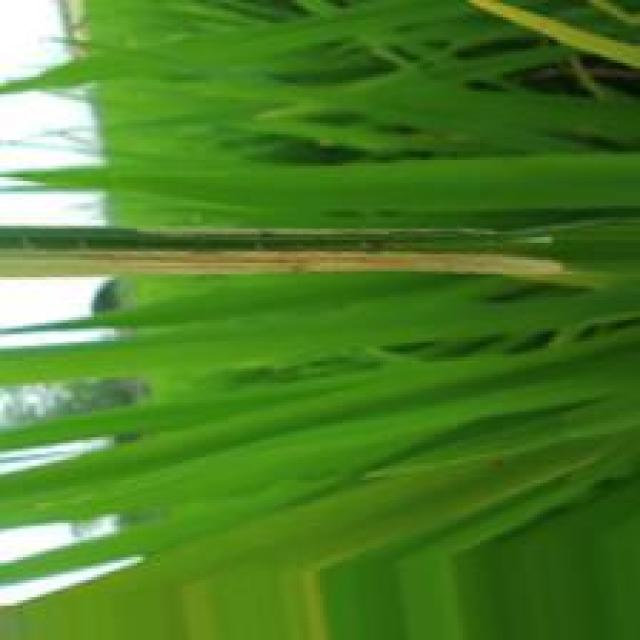Rice_Hispa: (0, 247, 574, 279)
